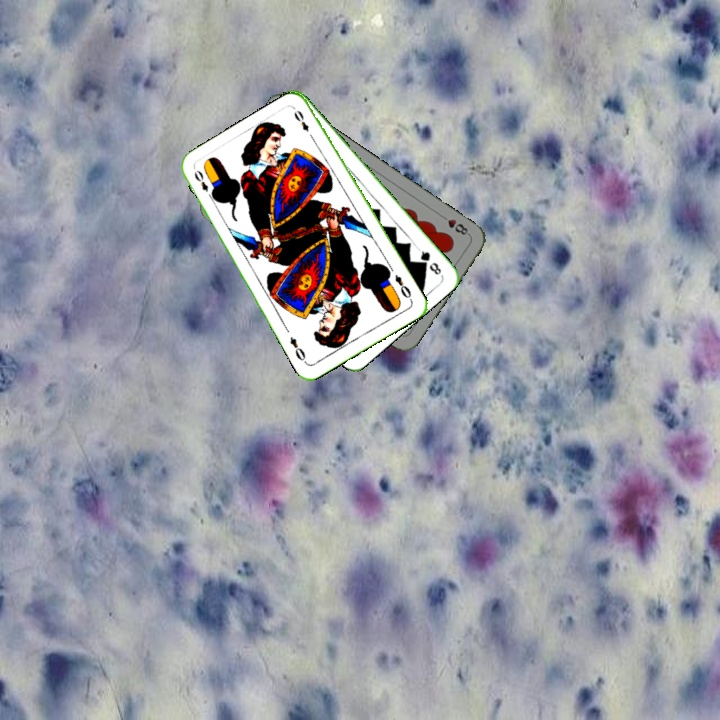EO: (190, 166, 217, 202), (391, 270, 415, 304)
G8: (414, 244, 444, 278)
H8: (436, 211, 472, 238)
